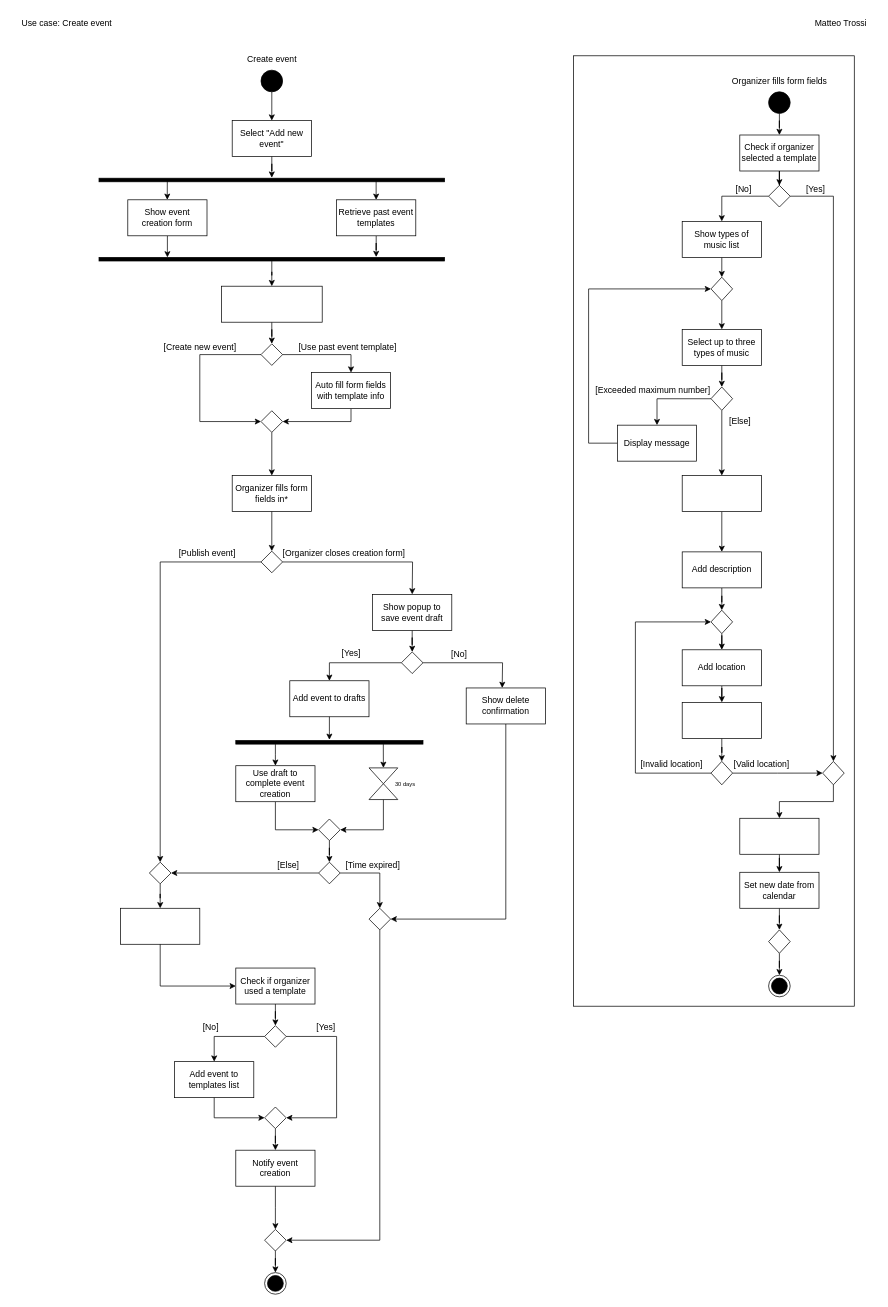
This 888x1307 diagram has some shape labels left out. Each missing label, with the box of its shape:
Add event name: (681, 475, 761, 512)
Ask user to create a new event or use a past event template: (221, 285, 322, 322)
Check location correctness: (681, 702, 761, 738)
Save event information: (120, 908, 200, 944)
Set new time: (739, 818, 819, 854)
